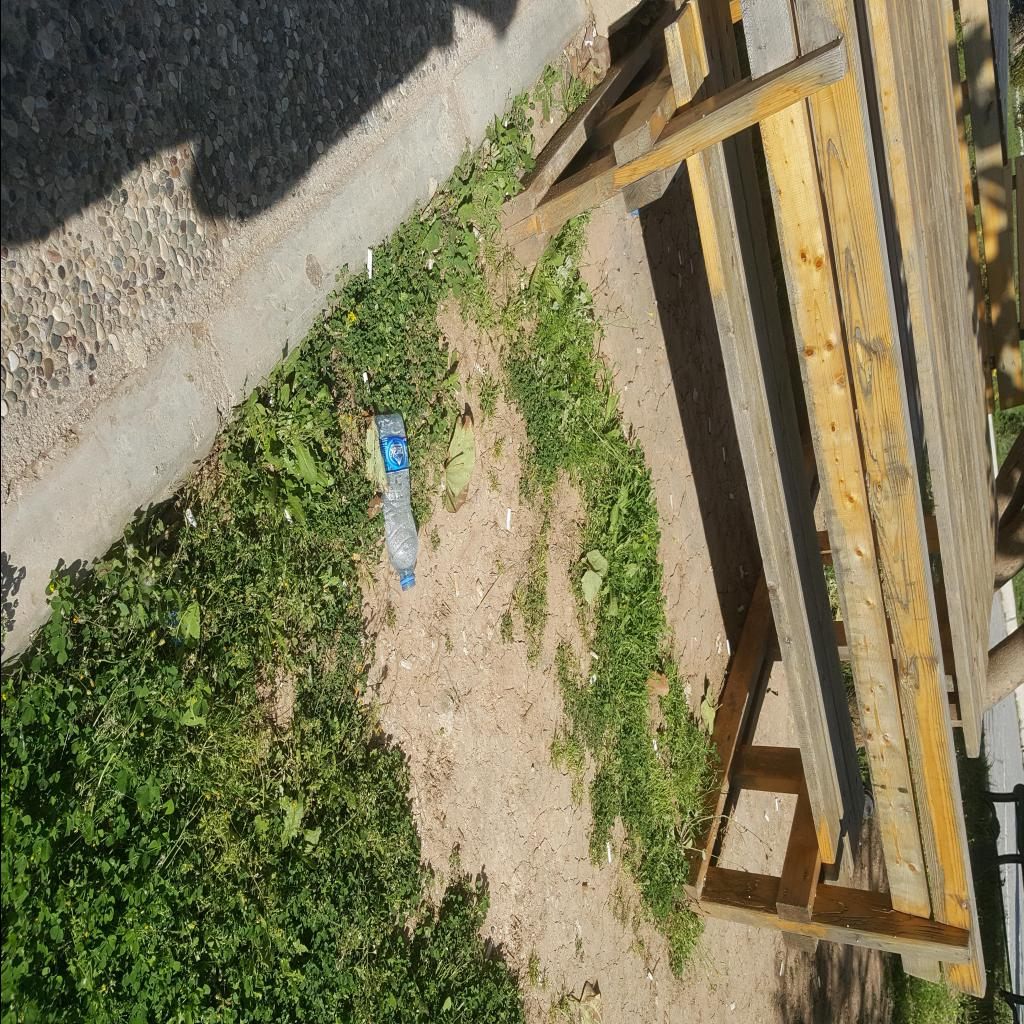Cigarette: (185, 508, 197, 530), (282, 506, 294, 526), (367, 246, 372, 278), (505, 508, 511, 532), (452, 572, 458, 596), (361, 372, 369, 390), (605, 840, 611, 862), (588, 648, 598, 660), (562, 49, 570, 63), (472, 226, 480, 240), (724, 638, 730, 656), (645, 969, 653, 981), (676, 250, 682, 266), (721, 446, 726, 464), (736, 603, 744, 614), (540, 117, 546, 129), (778, 962, 782, 978), (774, 798, 778, 812), (816, 976, 820, 988), (764, 810, 768, 822), (584, 40, 592, 46), (708, 416, 710, 434), (727, 493, 733, 499)
Clear plastic bottle: (373, 414, 417, 592)
Unlabeled litter: (652, 740, 656, 752)
